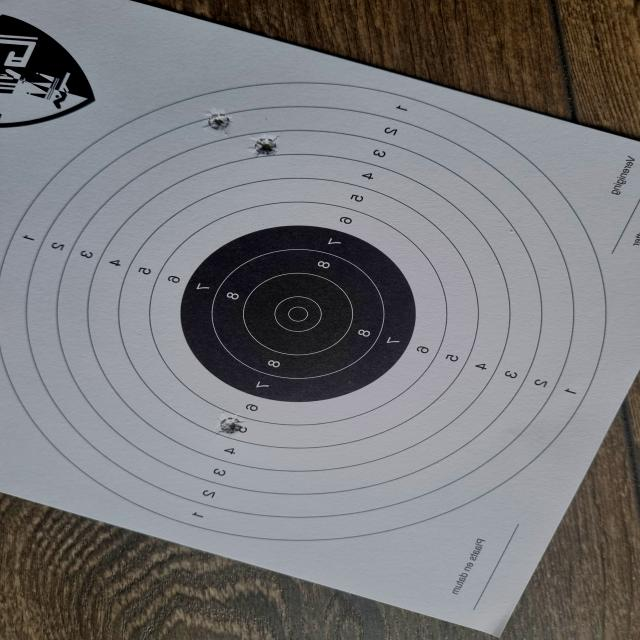2: (205, 114, 230, 130)
3: (250, 136, 277, 158)
5: (218, 418, 244, 434)
Target: (0, 83, 608, 542)
black_contour: (182, 226, 416, 402)
